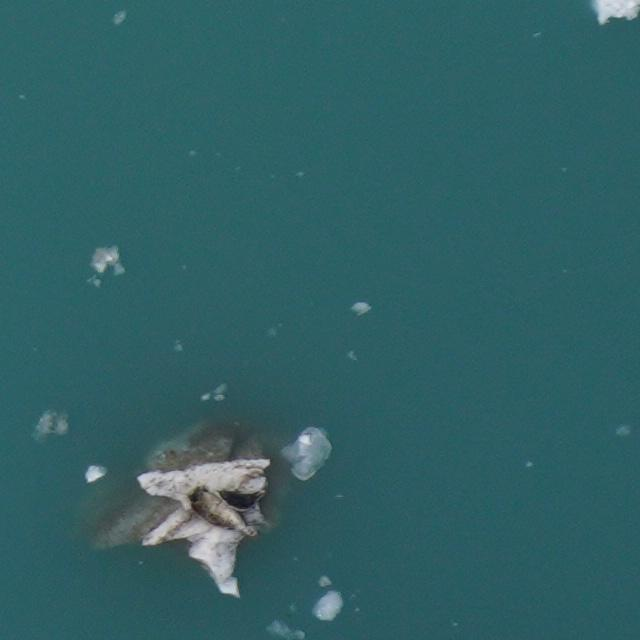seal: (185, 484, 257, 547), (217, 489, 266, 510)
